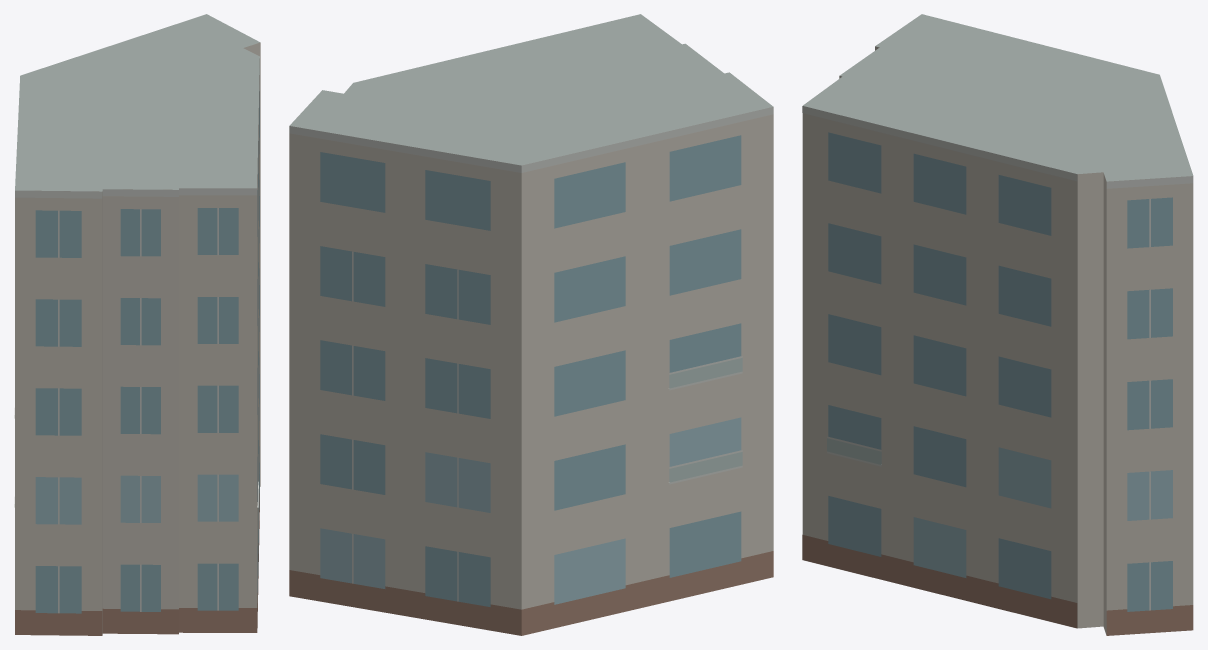
File: survey-upis-32511810.glb
3 renders of one model, left to right at view 1: azimuth 30°, elevation 25°; view 2: azimuth 150°, elevation 25°; view 3: azimuth 270°, elevation 25°, orthographic. The views are drawn at different scales.
Parts seen in each view (by area): view 1: survey-upis-32511810.tmp; view 2: survey-upis-32511810.tmp; view 3: survey-upis-32511810.tmp.
Boxes of the visible parts, x1,y1,x2,y2 form: survey-upis-32511810.tmp: [14, 14, 260, 635]; survey-upis-32511810.tmp: [289, 14, 773, 635]; survey-upis-32511810.tmp: [802, 14, 1193, 635].
Bounding box in the file's own units: 12.07 × 15.25 × 11.91.
